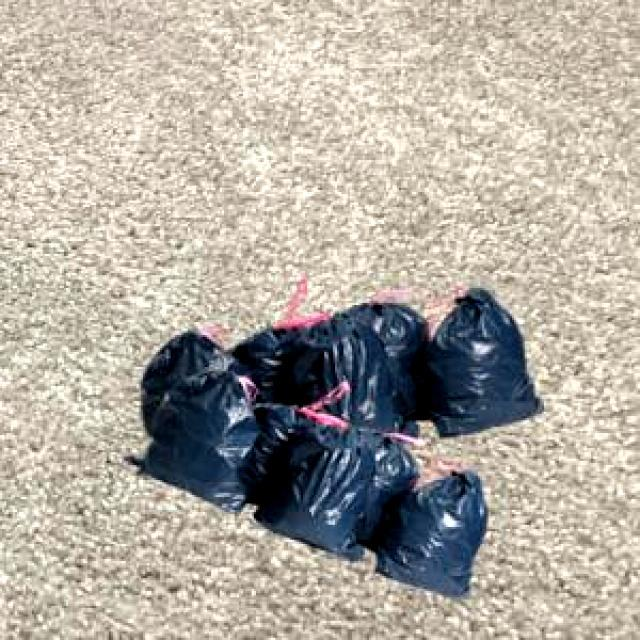Garbage_Bag: (122, 368, 486, 596), (138, 272, 540, 441)
